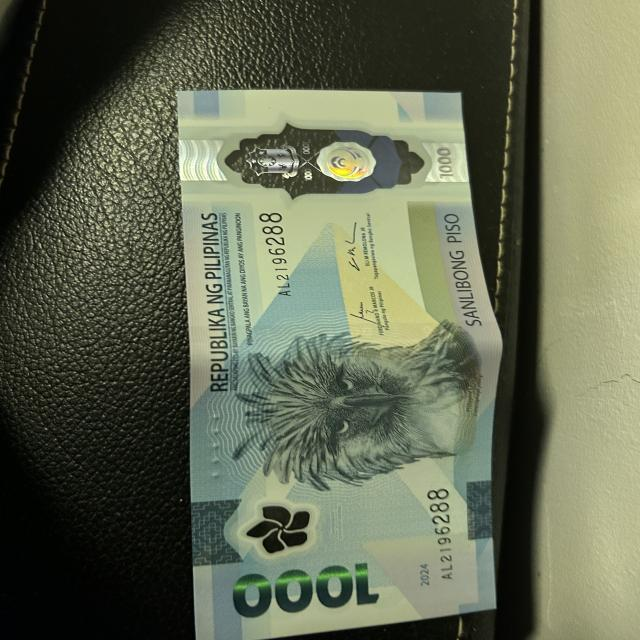clear_window: (208, 122, 441, 194)
eagle: (244, 344, 482, 480)
sampaguita: (243, 504, 316, 556)
